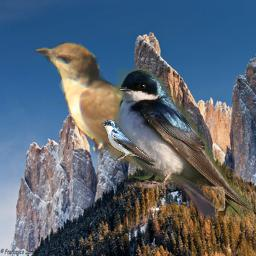Cuckoo: (34, 42, 215, 220)
Swallow: (114, 68, 254, 226), (101, 120, 157, 166)
